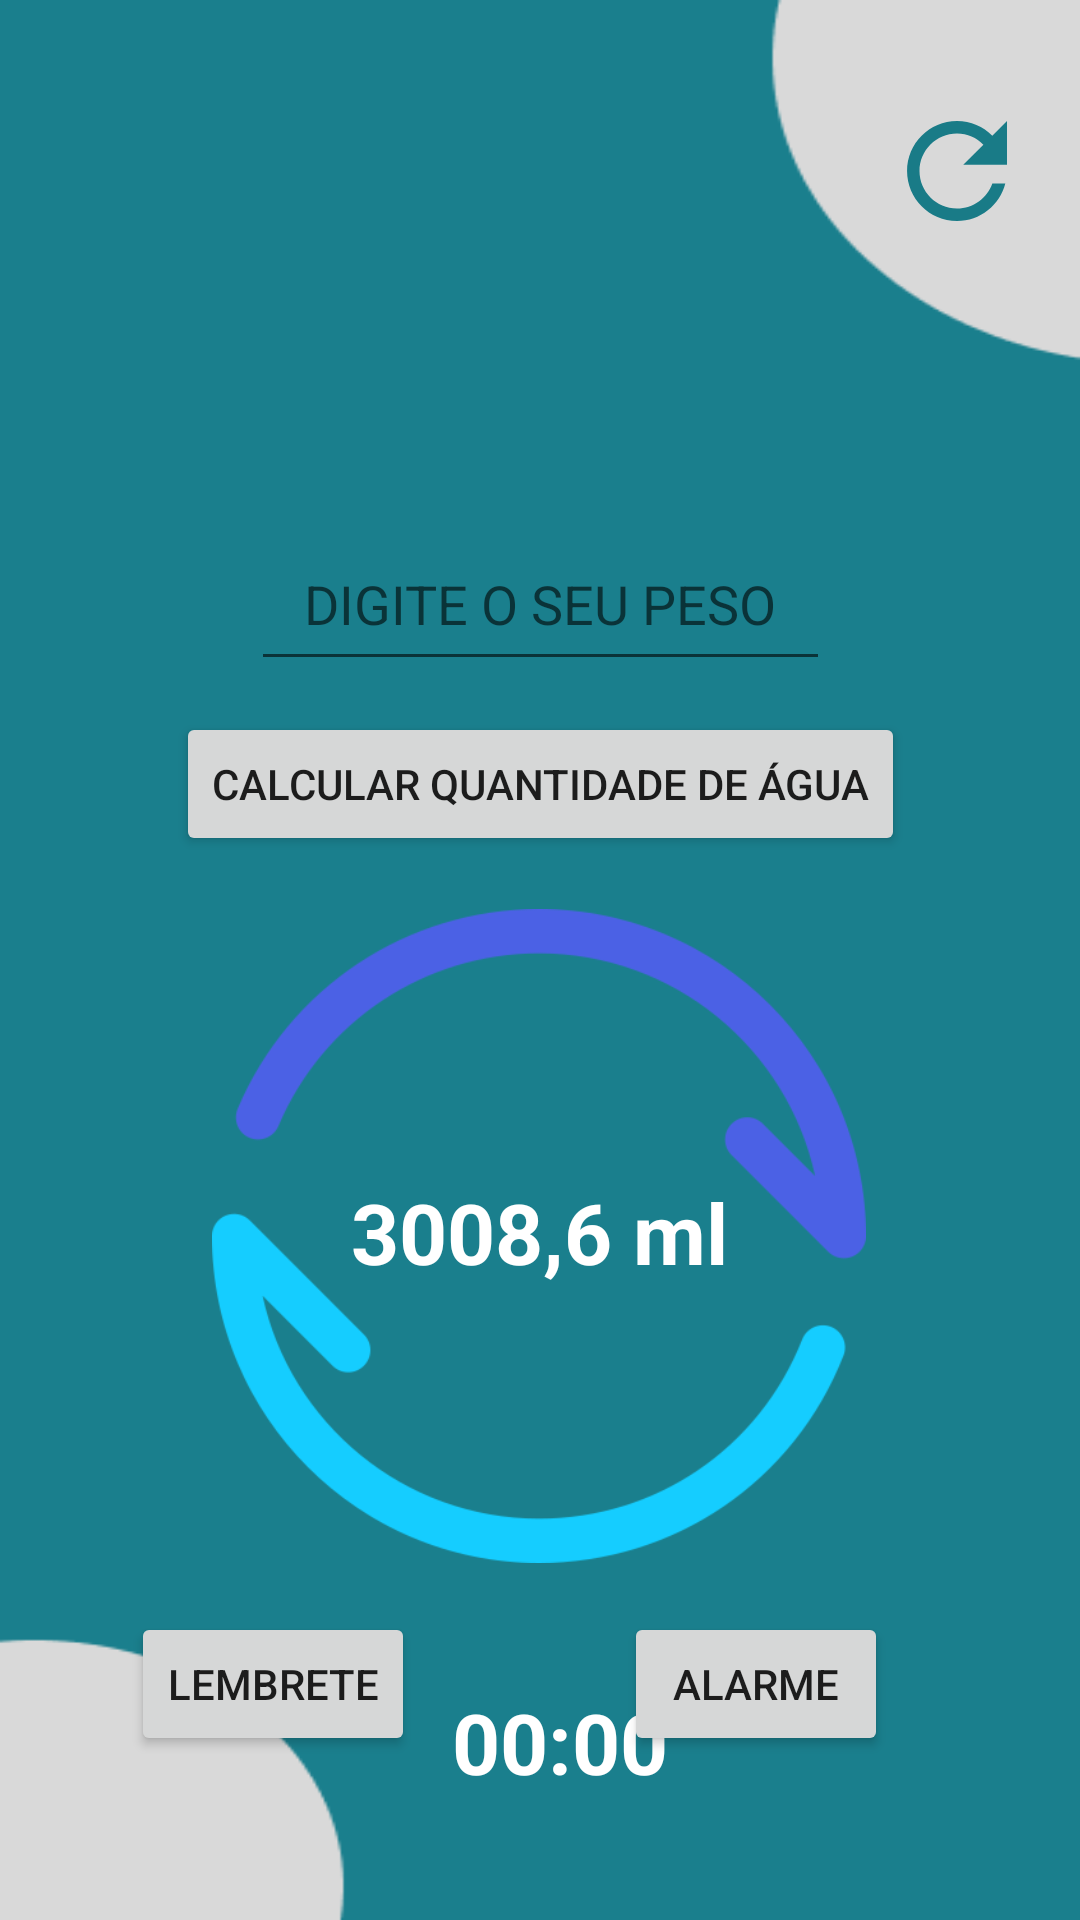

Named icons in this screenshot (1080px×1920px) and their bounding boxes, region(x1, y1, x2, y2):
refresh: region(907, 121, 1007, 221)
